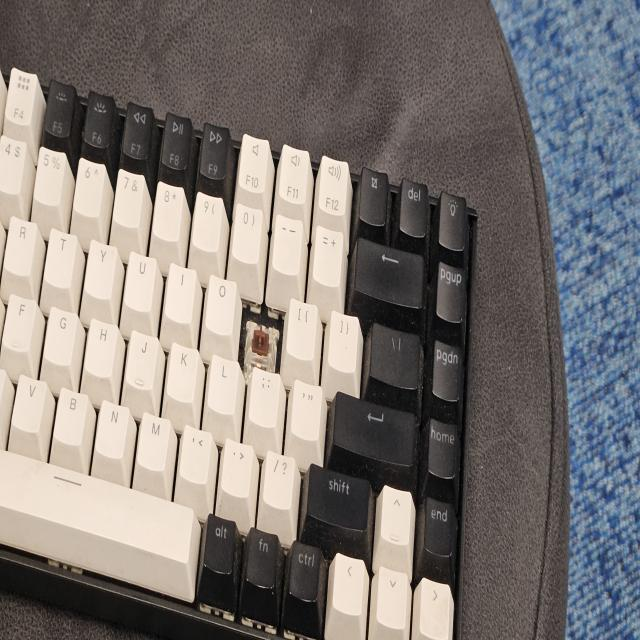C: (243, 307, 277, 358)
